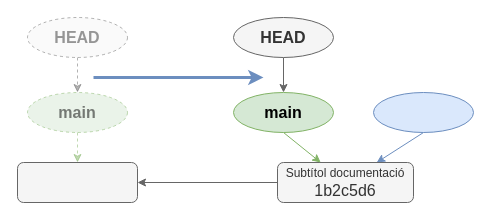
Some shapes in this 491 by 220 pixel diagram are drawn without their labels. Here are the shapes that lost their labels. From the top down, the box of each, then its label:
(372, 92, 474, 132): docs
(16, 162, 138, 202): Títol 0b1b3b4
